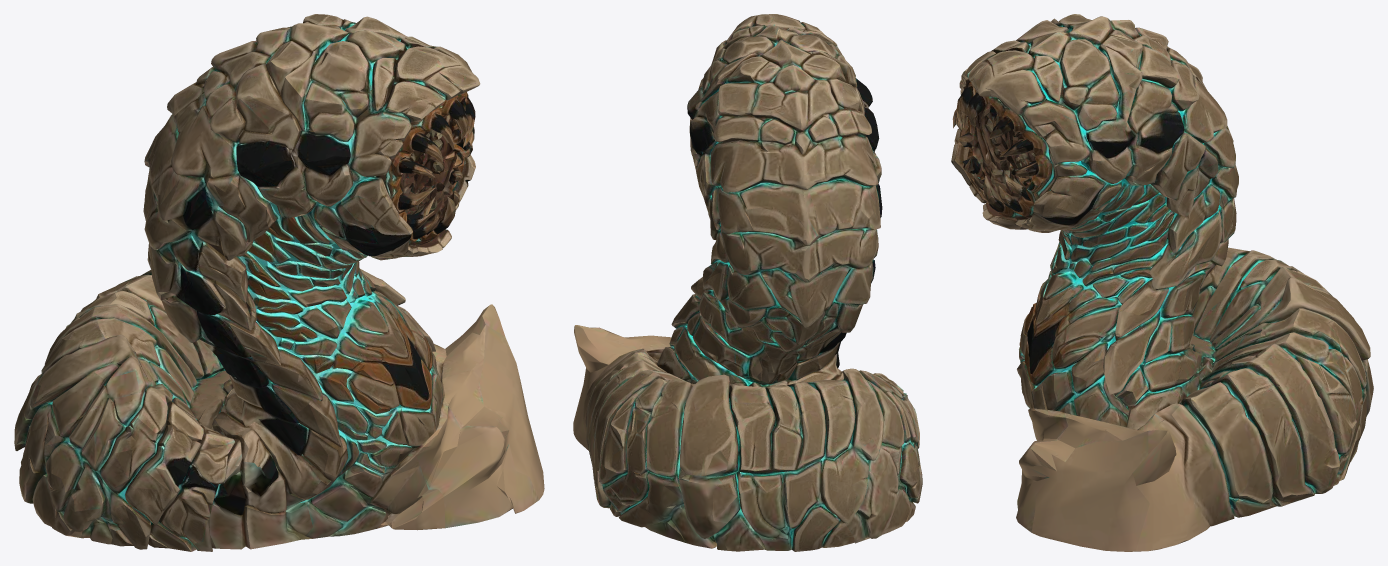
File: model.opt.glb
3 renders of one model, left to right at view 1: azimuth 30°, elevation 25°; view 2: azimuth 150°, elevation 25°; view 3: azimuth 270°, elevation 25°, orthographic. The views are drawn at different scales.
Parts seen in each view (by area): view 1: Mesh_0; view 2: Mesh_0; view 3: Mesh_0.
Part boxes in pixels (x1,y1,x2,y2): Mesh_0: [14, 14, 544, 551]; Mesh_0: [573, 14, 922, 551]; Mesh_0: [951, 14, 1373, 551].
Size of the model in its own units: 1.79 by 1.9 by 1.68.
1 material, 1 textured.
